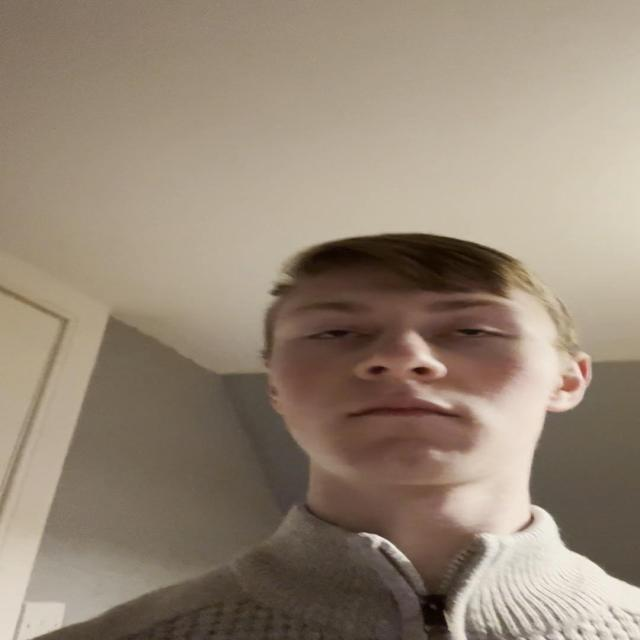no-helmet: (258, 269, 570, 552)
